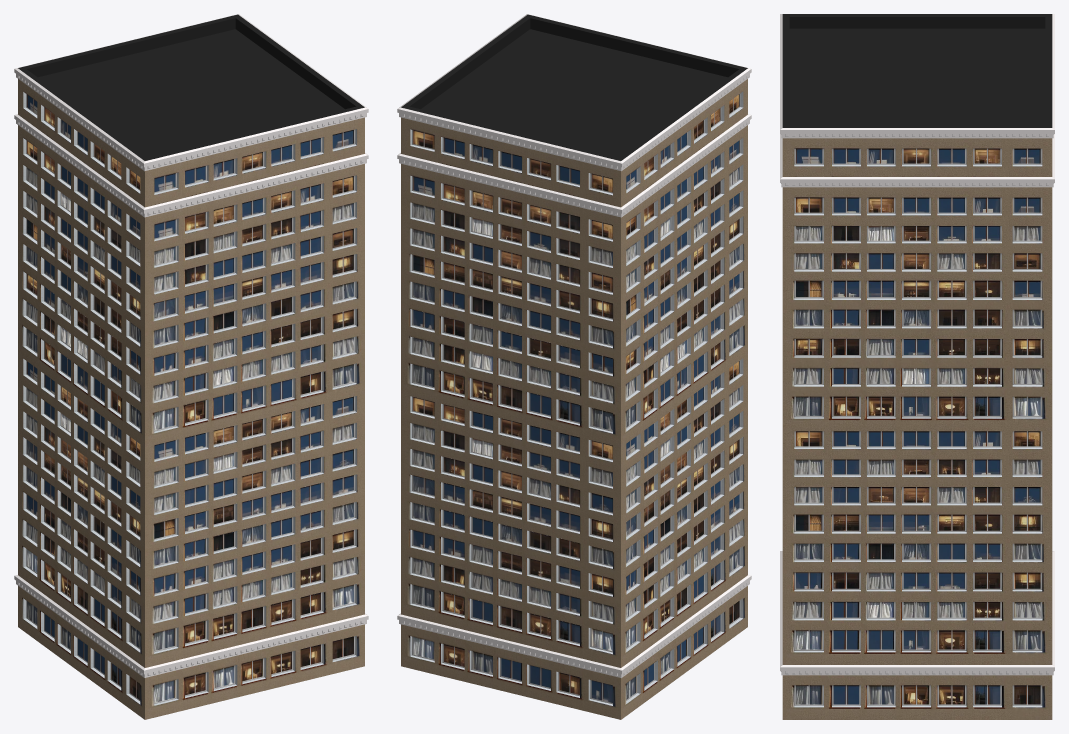
Rendered from simple-building.glb.
3 views of the same model, side by side, from view 1: azimuth 30°, elevation 25°; view 2: azimuth 150°, elevation 25°; view 3: azimuth 270°, elevation 25° (orthographic). The views are drawn at different scales.
Visible parts, largest first — view 1: SM_SimpleB_1A_MI_SimpleB_1A_Day_0, SM_SimpleB_1A_MI_SimpleB_1A_UnlitWndws_0, SM_SimpleB_1A_MI_SciFi_B_Dark_0, SM_SimpleB_1A_MI_Brick_157S_0, SM_SimpleB_1A_MI_SimpleB_1A_LitWndws_0, SM_SimpleB_1A_MI_SimpleB_1A_WndwFrm_0, SM_SimpleB_1A_MI_BSimple_Deco_0; view 2: SM_SimpleB_1A_MI_SimpleB_1A_Day_0, SM_SimpleB_1A_MI_SimpleB_1A_UnlitWndws_0, SM_SimpleB_1A_MI_SciFi_B_Dark_0, SM_SimpleB_1A_MI_SimpleB_1A_LitWndws_0, SM_SimpleB_1A_MI_Brick_157S_0, SM_SimpleB_1A_MI_SimpleB_1A_WndwFrm_0, SM_SimpleB_1A_MI_BSimple_Deco_0; view 3: SM_SimpleB_1A_MI_SimpleB_1A_Day_0, SM_SimpleB_1A_MI_SimpleB_1A_UnlitWndws_0, SM_SimpleB_1A_MI_SciFi_B_Dark_0, SM_SimpleB_1A_MI_SimpleB_1A_LitWndws_0, SM_SimpleB_1A_MI_SimpleB_1A_WndwFrm_0, SM_SimpleB_1A_MI_BSimple_Deco_0, SM_SimpleB_1A_MI_Brick_157S_0.
Part boxes in pixels (x1,y1,x2,y2): SM_SimpleB_1A_MI_SimpleB_1A_Day_0: (18, 79, 364, 719); SM_SimpleB_1A_MI_SimpleB_1A_UnlitWndws_0: (27, 94, 353, 686); SM_SimpleB_1A_MI_SciFi_B_Dark_0: (18, 14, 364, 160); SM_SimpleB_1A_MI_Brick_157S_0: (23, 92, 356, 705); SM_SimpleB_1A_MI_SimpleB_1A_LitWndws_0: (27, 108, 353, 702); SM_SimpleB_1A_MI_SimpleB_1A_WndwFrm_0: (26, 94, 355, 703); SM_SimpleB_1A_MI_BSimple_Deco_0: (14, 14, 368, 677); SM_SimpleB_1A_MI_SimpleB_1A_Day_0: (401, 79, 747, 719); SM_SimpleB_1A_MI_SimpleB_1A_UnlitWndws_0: (413, 132, 739, 702); SM_SimpleB_1A_MI_SciFi_B_Dark_0: (401, 14, 747, 160); SM_SimpleB_1A_MI_SimpleB_1A_LitWndws_0: (413, 94, 739, 694); SM_SimpleB_1A_MI_Brick_157S_0: (410, 91, 743, 705); SM_SimpleB_1A_MI_SimpleB_1A_WndwFrm_0: (412, 94, 740, 704); SM_SimpleB_1A_MI_BSimple_Deco_0: (397, 14, 751, 677); SM_SimpleB_1A_MI_SimpleB_1A_Day_0: (782, 138, 1052, 719); SM_SimpleB_1A_MI_SimpleB_1A_UnlitWndws_0: (796, 148, 1040, 704); SM_SimpleB_1A_MI_SciFi_B_Dark_0: (782, 14, 1052, 127); SM_SimpleB_1A_MI_SimpleB_1A_LitWndws_0: (796, 148, 1040, 704); SM_SimpleB_1A_MI_SimpleB_1A_WndwFrm_0: (794, 148, 1042, 705); SM_SimpleB_1A_MI_BSimple_Deco_0: (780, 14, 1054, 675); SM_SimpleB_1A_MI_Brick_157S_0: (794, 164, 1042, 707).
Bounding box in the file's own units: 20.4 × 48.49 × 20.4.
Materials: 7 (5 with a texture image).
